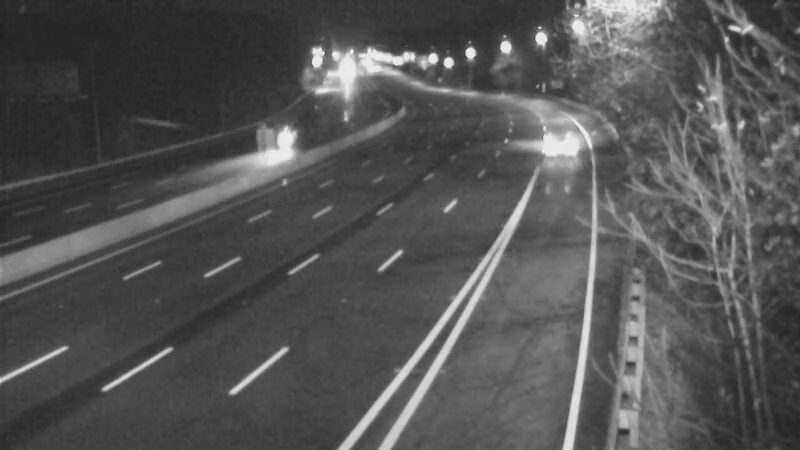vehicle: (521, 113, 571, 163), (251, 114, 301, 164)
